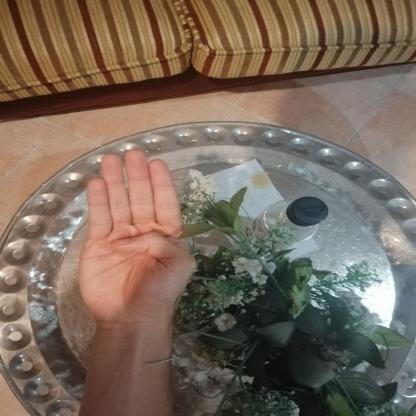KAAF: (60, 138, 211, 335)
